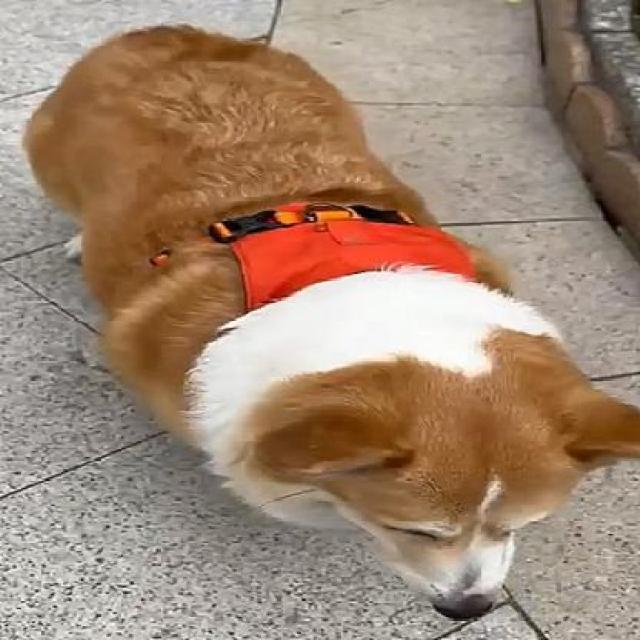Dog: (21, 26, 638, 639)
